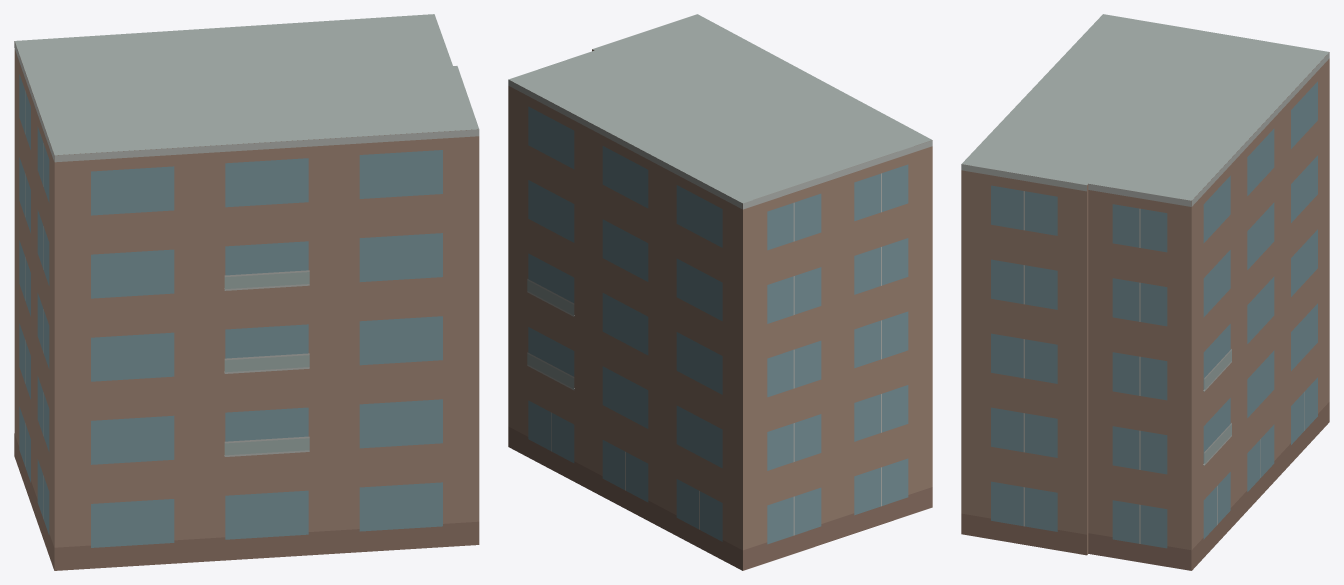
Rendered from survey-upis-32929384.glb.
3 views of the same model, side by side, from view 1: azimuth 30°, elevation 25°; view 2: azimuth 150°, elevation 25°; view 3: azimuth 270°, elevation 25° (orthographic). The views are drawn at different scales.
Visible parts, largest first — view 1: survey-upis-32929384.tmp; view 2: survey-upis-32929384.tmp; view 3: survey-upis-32929384.tmp.
Boxes of the visible parts, bbox=[...] form: survey-upis-32929384.tmp: bbox=[14, 14, 479, 570]; survey-upis-32929384.tmp: bbox=[508, 14, 932, 570]; survey-upis-32929384.tmp: bbox=[961, 14, 1329, 570].
Bounding box in the file's own units: 15.76 × 14.55 × 13.13.
